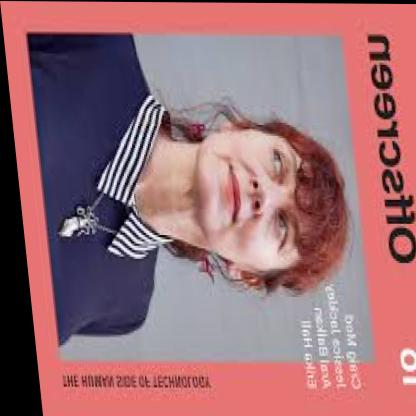Paper: (1, 11, 416, 414)
